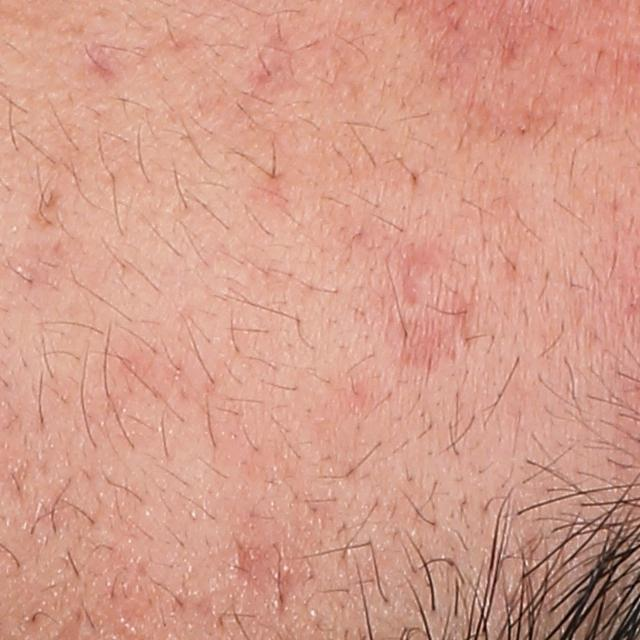atrophic_scar: (395, 237, 455, 313), (83, 46, 122, 87)
